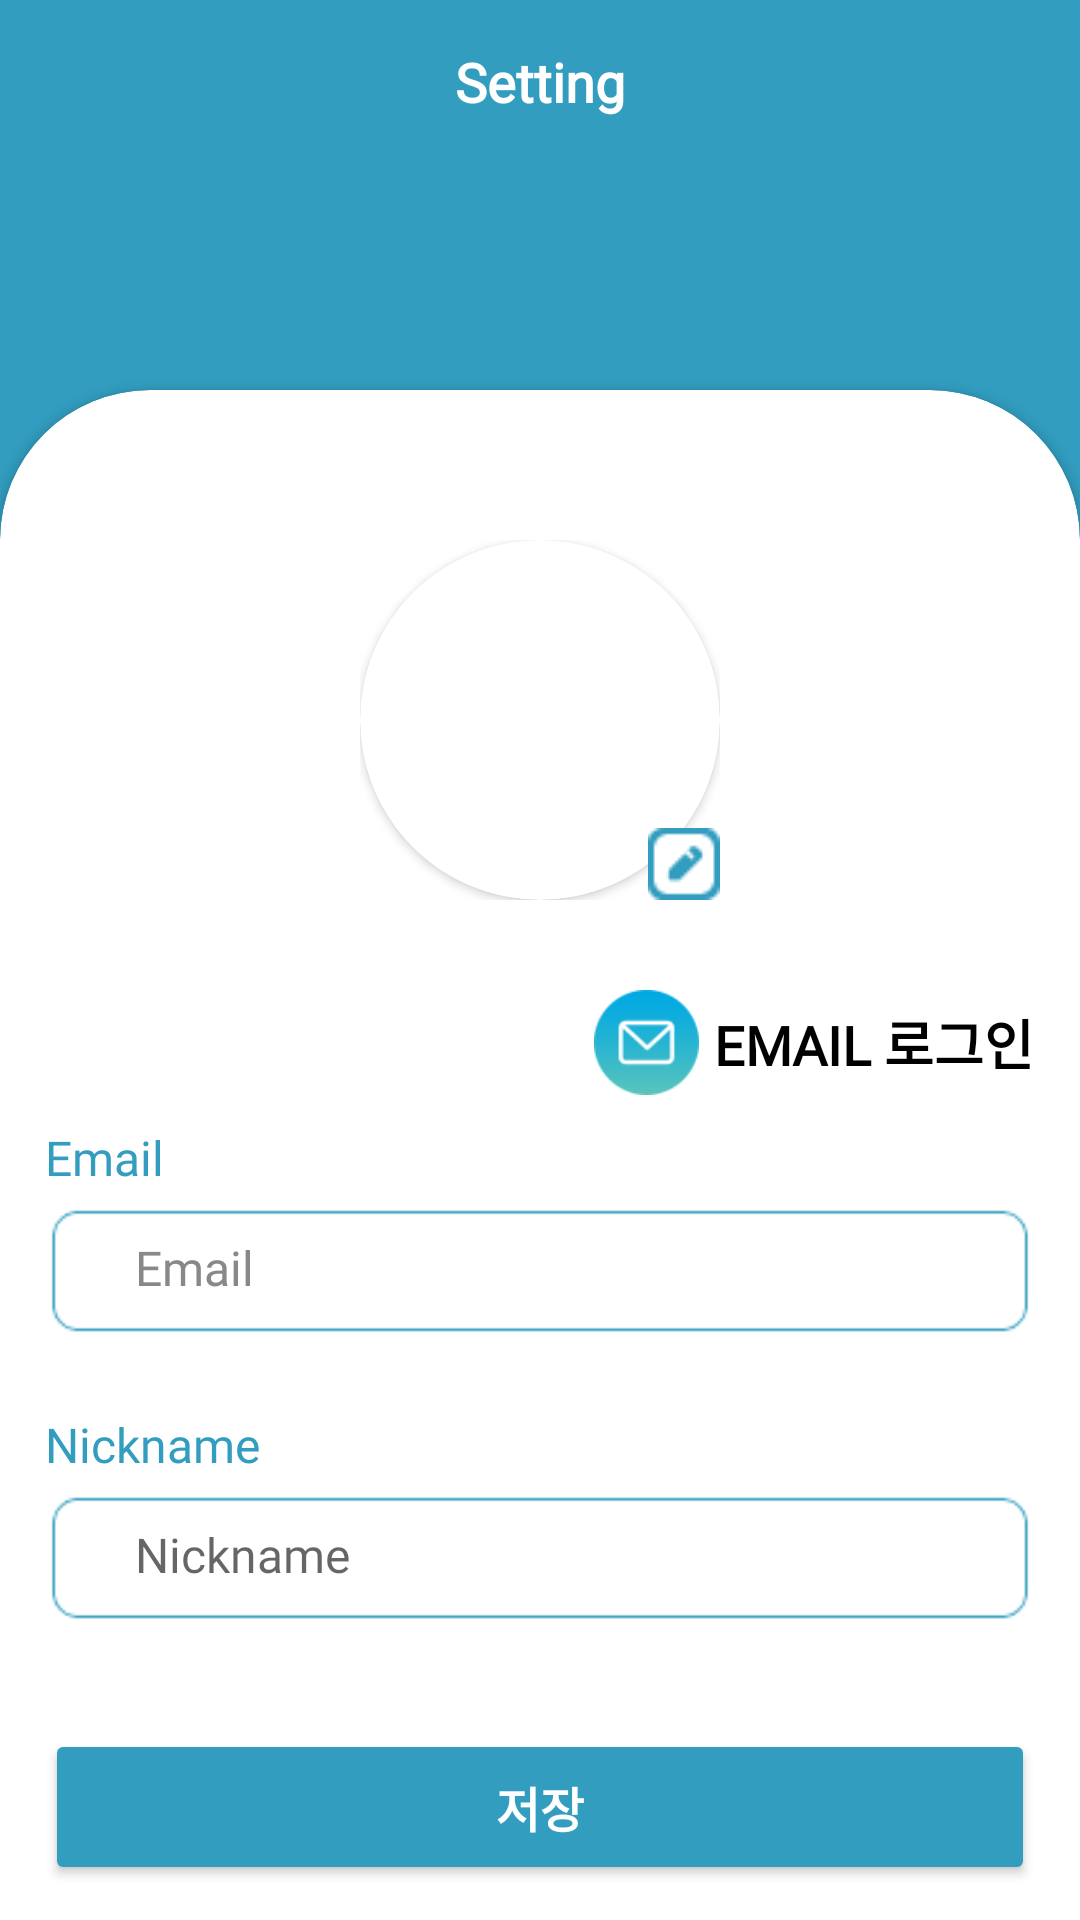

Icon bounding boxes for this 1080 × 1920 phone screenshot, format [x1, y1, x2, y2]:
profileedit: [648, 828, 720, 900]
